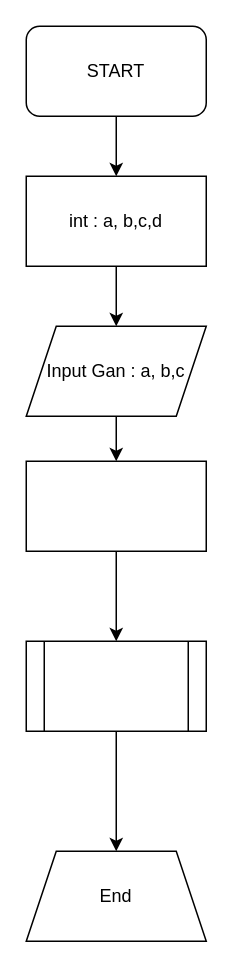
The diagram is 233 pixels wide and 968 high, and some of its shapes have lost their labels. Here are the shapes that lost their labels. From the top down, the box of each, then its label:
(25, 460, 206, 551): d = a + b + c
(25, 640, 206, 731): Goi ham in (print/cout) ra bien d
